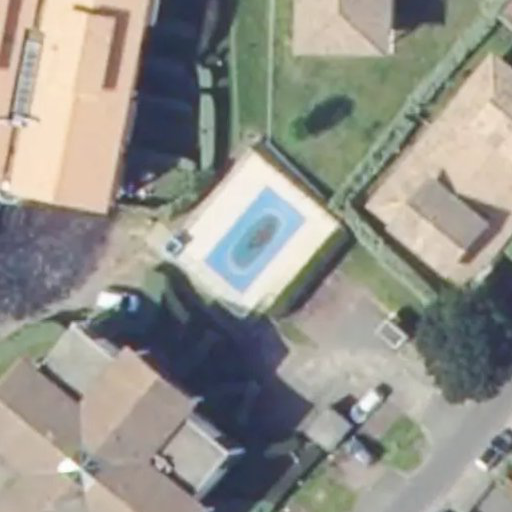pool: (202, 183, 309, 297)
